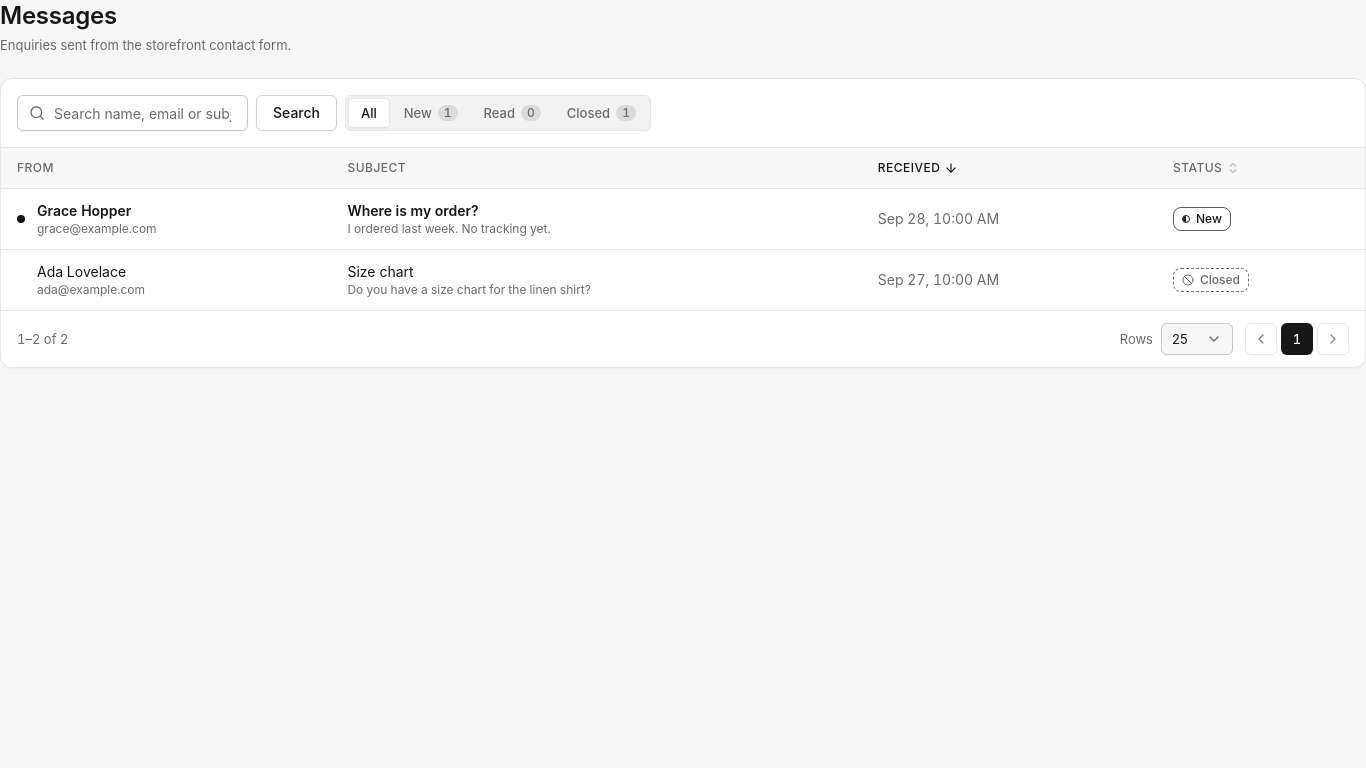
Scenario: Messages page › marks an unread message read when it is opened
The image size is (1366, 768).
Step 1. Click the button "Where is my order?" → (413, 210), box [347,200,479,220]
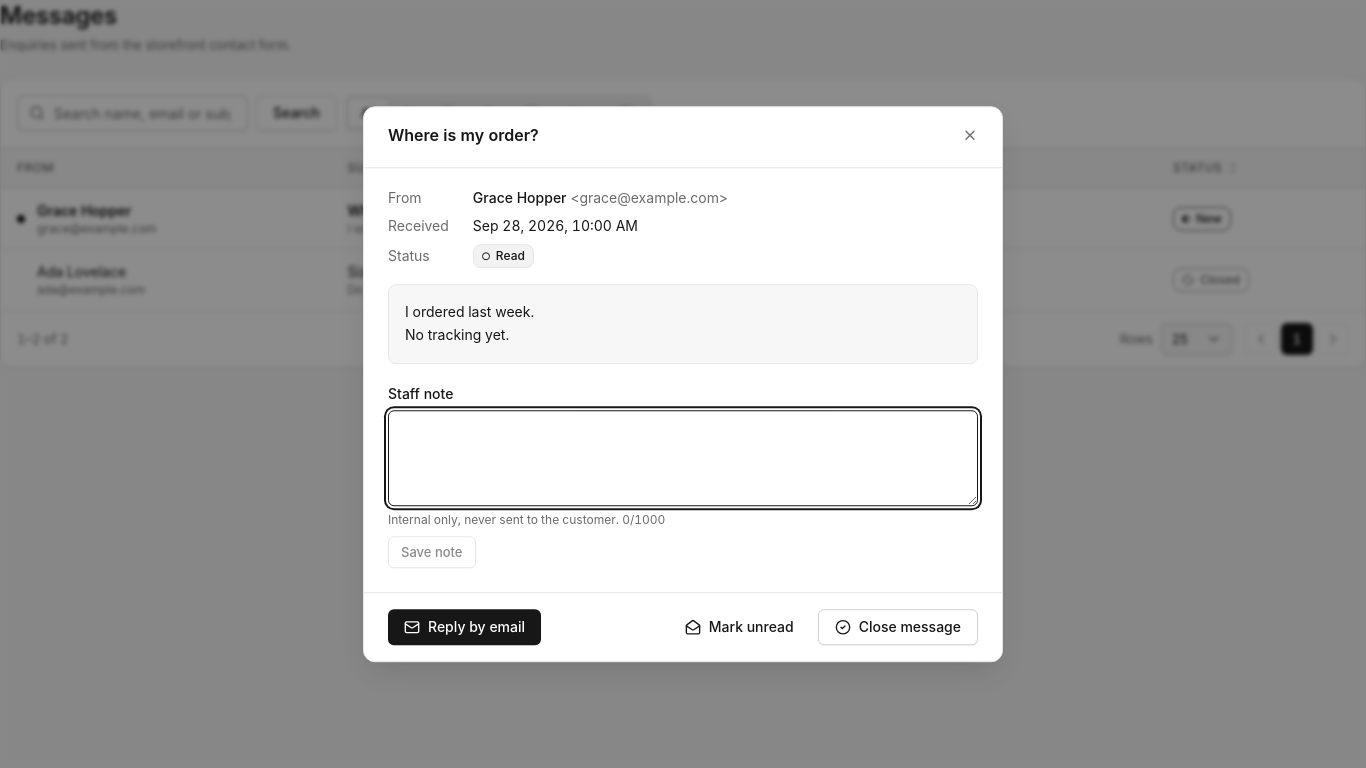
Check: the text "I ordered last week. No tracking yet." is shown, box [388,284,978,364]
